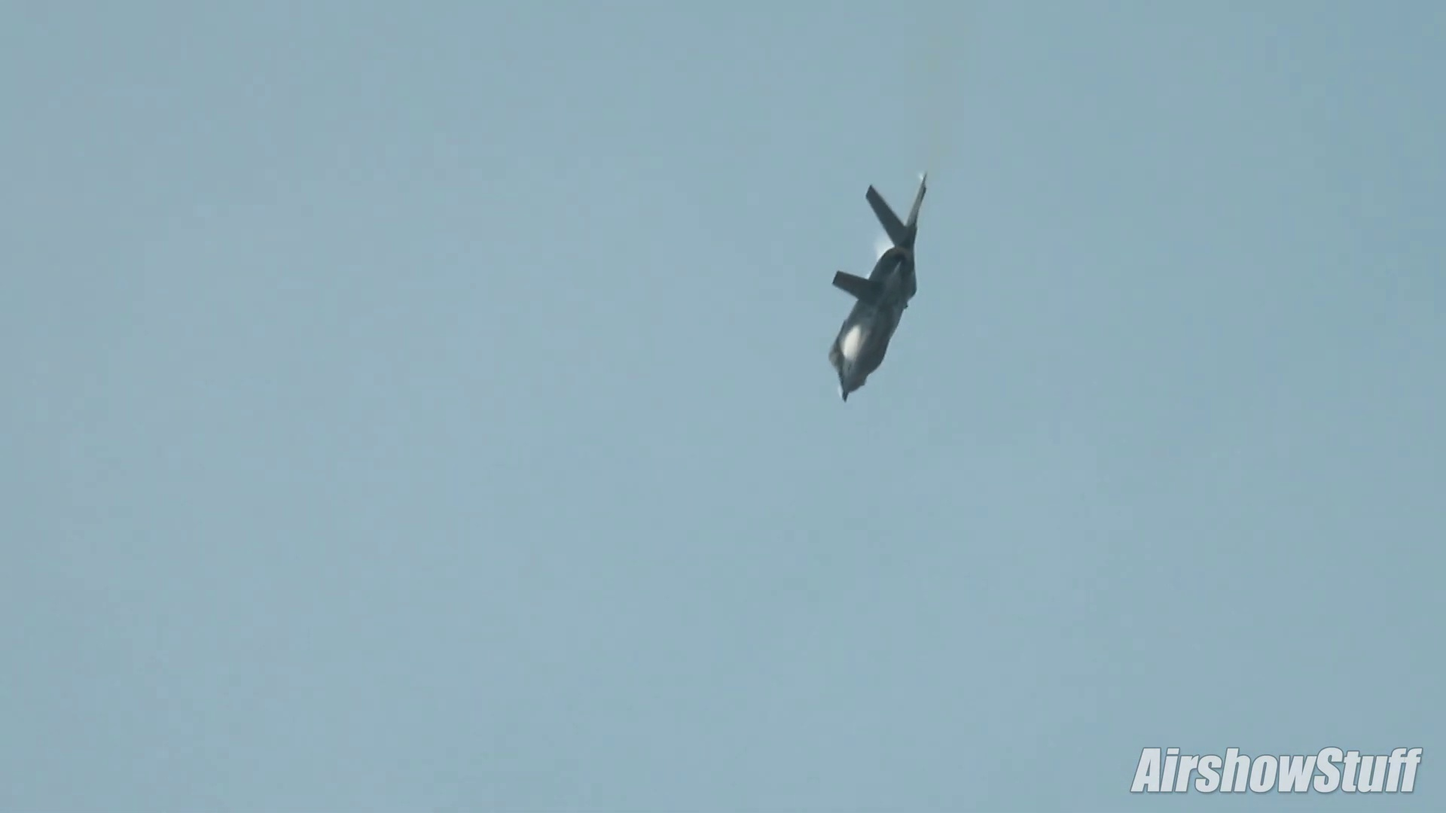F35: (806, 162, 949, 407)
